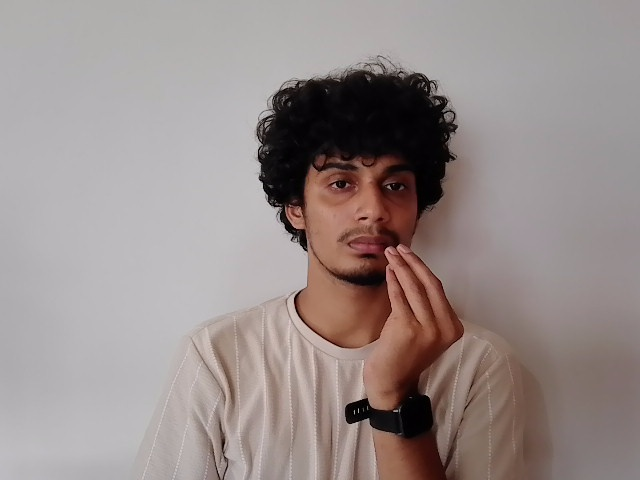eat: (282, 152, 465, 383)
